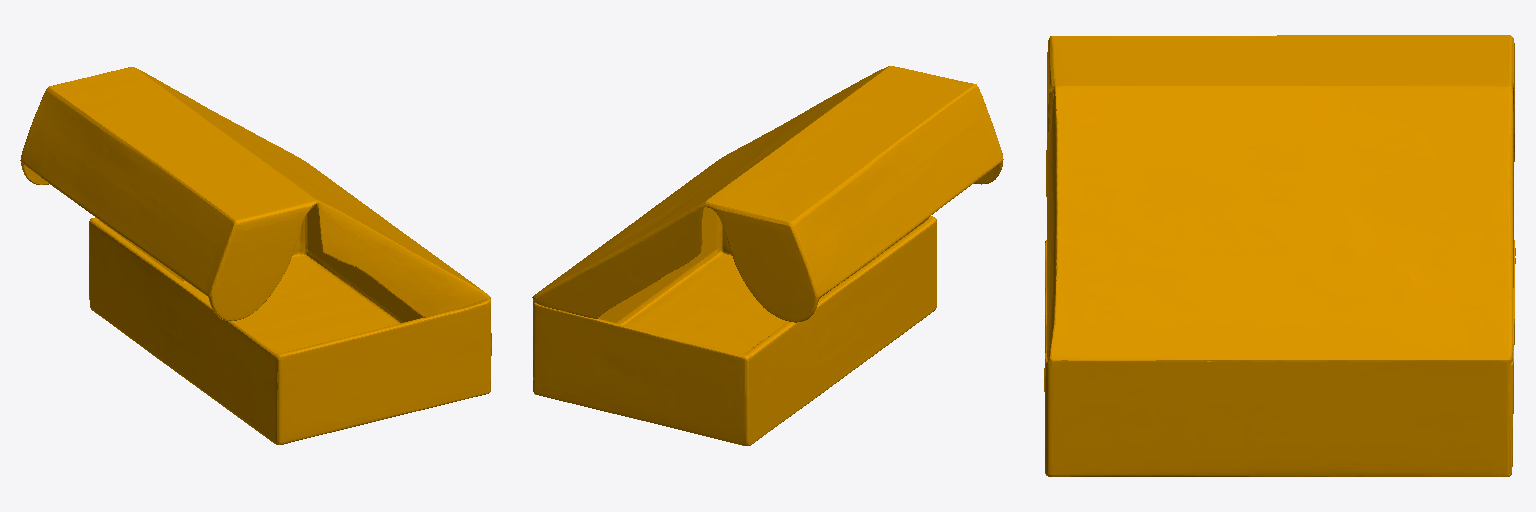
URDF robot description (sample):
<?xml version="1.0" ?>
<robot name="sample">
   <link name="sample">
      <visual>
         <origin xyz="0 0 0" rpy="1.5708 0.0 0.0"/>
         <geometry>
            <mesh filename="mesh/sample.obj" scale="1.0 1.0 1.0"/>
         </geometry>
      </visual>
      <collision>
         <origin xyz="0 0 0" rpy="1.5708 0.0 0.0"/>
         <geometry>
            <mesh filename="mesh/sample_collision.obj" scale="1.0 1.0 1.0"/>
         </geometry>
         <gazebo>
            <mu1>0.40</mu1>
            <mu2>0.30</mu2>
         </gazebo>
      </collision>
      <inertial>
         <mass value="0.7500"/>
         <origin xyz="0 0 0"/>
         <inertia ixx="1.0" ixy="0.0" ixz="0.0" iyy="1.0" iyz="0.0" izz="1.0"/>
      </inertial>
      <extra_info>
         <scale>0.440410</scale>
         <version>v0.1.7</version>
         <category>box</category>
         <description>rectangular cardboard box with hinged lid and printed logo</description>
         <min_height>0.2</min_height>
         <max_height>0.4</max_height>
         <real_height>0.3</real_height>
         <min_mass>0.5</min_mass>
         <max_mass>1.0</max_mass>
         <generate_time>20260402172433</generate_time>
         <gs_model>mesh/sample_gs.ply</gs_model>
      </extra_info>
   </link>
   <custom_data>
      <quality>
         <MeshGeoChecker>YES</MeshGeoChecker>
         <ImageSegChecker>NO, segmentation has artifacts and incomplete edges, especially on the right side and bottom.</ImageSegChecker>
         <ImageAestheticChecker>4.335758805274963</ImageAestheticChecker>
         <overall>NO</overall>
      </quality>
   </custom_data>
</robot>

--- Facts derived from the render (not from the file) ---
Views: 3 orthographic renders of the robot side by side, from view 1: azimuth 30°, elevation 25°; view 2: azimuth 150°, elevation 25°; view 3: azimuth 270°, elevation 25°.
Model sample with 1 links and 0 joints (none), rooted at sample, posed all joints at 0.
Visible links, largest first — view 1: sample; view 2: sample; view 3: sample.
Link boxes in pixels (left/top/right/bottom): sample: left=20, top=67, right=491, bottom=444; sample: left=532, top=66, right=1003, bottom=445; sample: left=1044, top=35, right=1515, bottom=476.
Size in the robot's own frame: 0.3818 by 0.4404 by 0.3 metres.
1 mesh visuals loaded from 1 distinct referenced files (1 OBJ).
